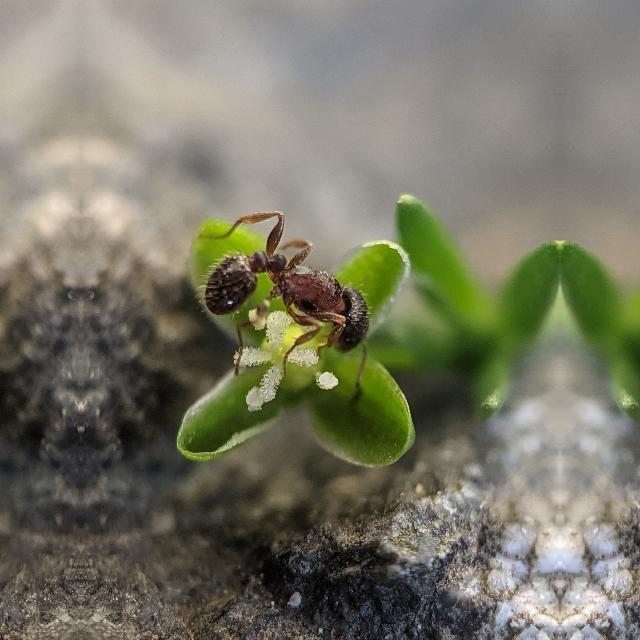Tetramorium: (186, 188, 394, 376)
